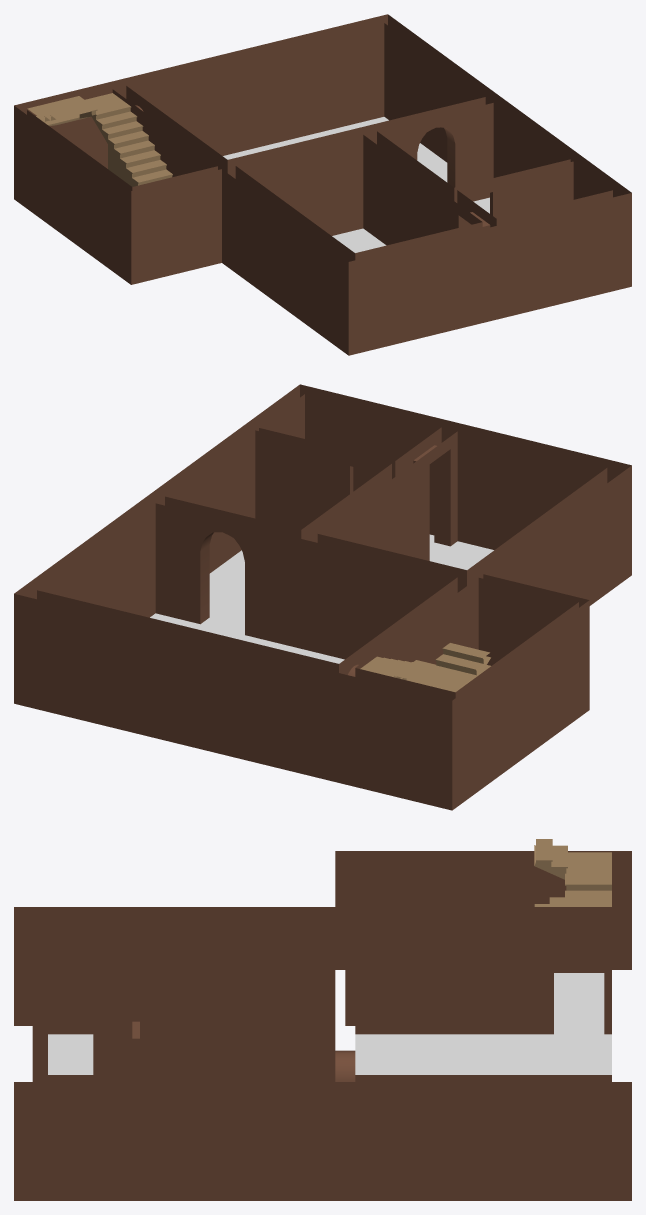
The model's file is Manor_Structure_F-1(Basement).fbx.
3 renders of one model, top to bottom at view 1: azimuth 30°, elevation 25°; view 2: azimuth 150°, elevation 25°; view 3: azimuth 270°, elevation 25°, orthographic. The views are drawn at different scales.
Parts seen in each view (by area): view 1: Bricks_Walls_F-1, Stairs_Structures_F-1, Floor_F-1; view 2: Bricks_Walls_F-1, Floor_F-1, Stairs_Structures_F-1; view 3: Bricks_Walls_F-1, Floor_F-1, Stairs_Structures_F-1.
Part boxes in pixels (box(x1,y1,x2,y2)): Bricks_Walls_F-1: box(14, 14, 631, 355); Stairs_Structures_F-1: box(27, 93, 172, 186); Floor_F-1: box(223, 117, 489, 252); Bricks_Walls_F-1: box(14, 384, 631, 810); Floor_F-1: box(150, 534, 493, 663); Stairs_Structures_F-1: box(360, 643, 490, 692); Bricks_Walls_F-1: box(14, 851, 631, 1200); Floor_F-1: box(48, 973, 611, 1074); Stairs_Structures_F-1: box(534, 839, 611, 906).
Bounding box in the file's own units: 10.84 × 2.93 × 12.26.
